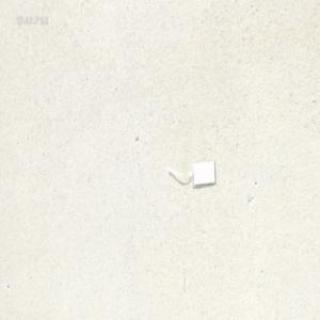LuggageTagtrack_idkeyframe: (170, 159, 215, 195)
